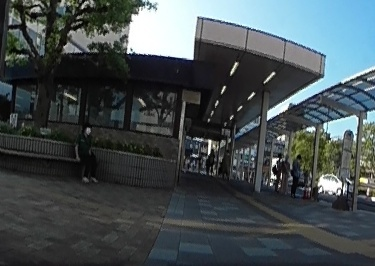person: (77, 117, 99, 187), (290, 153, 306, 194), (281, 153, 291, 193), (274, 151, 283, 192), (221, 148, 233, 176), (206, 147, 215, 175)
